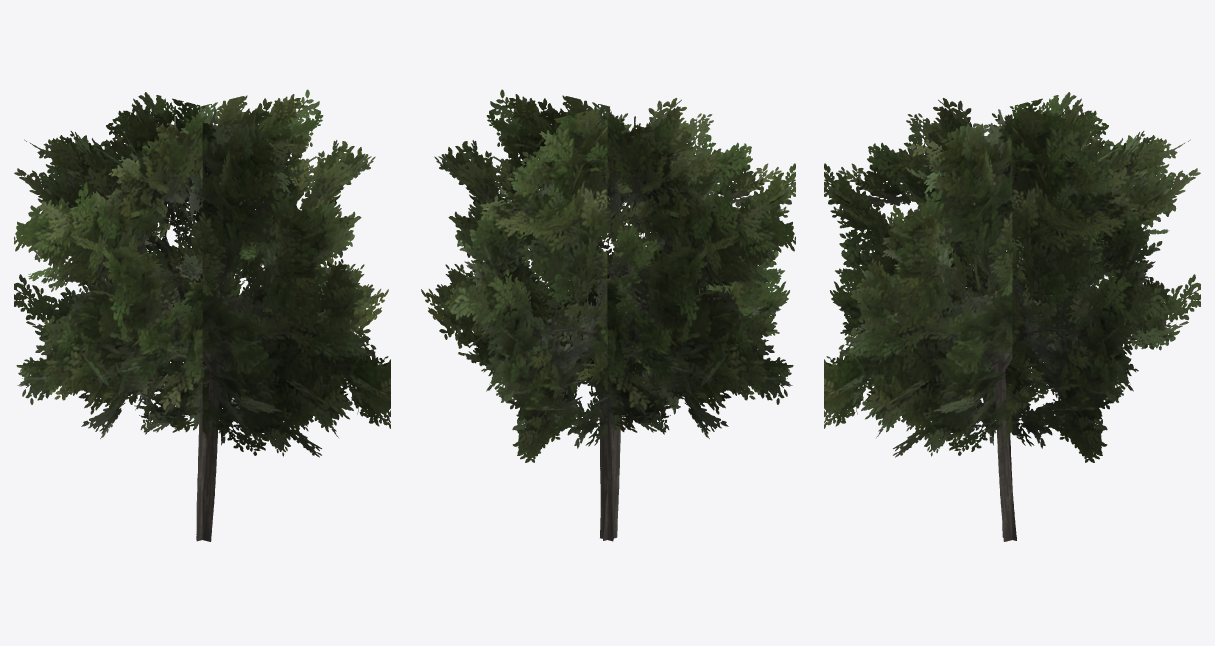
The model's file is dub_mlady_daleko.glb.
The picture shows the model from 3 angles, left to right: view 1: azimuth 30°, elevation 25°; view 2: azimuth 150°, elevation 25°; view 3: azimuth 270°, elevation 25°; orthographic projection.
Parts seen in each view (by area): view 1: dub_mlady_daleko; view 2: dub_mlady_daleko; view 3: dub_mlady_daleko.
Boxes of the visible parts, x1,y1,x2,y2 form: dub_mlady_daleko: (14,89,390,541); dub_mlady_daleko: (421,89,795,541); dub_mlady_daleko: (824,92,1200,541).
Size of the model in its own units: 6.72 by 7.4 by 5.82.
Materials: 3 (3 with a texture image).
